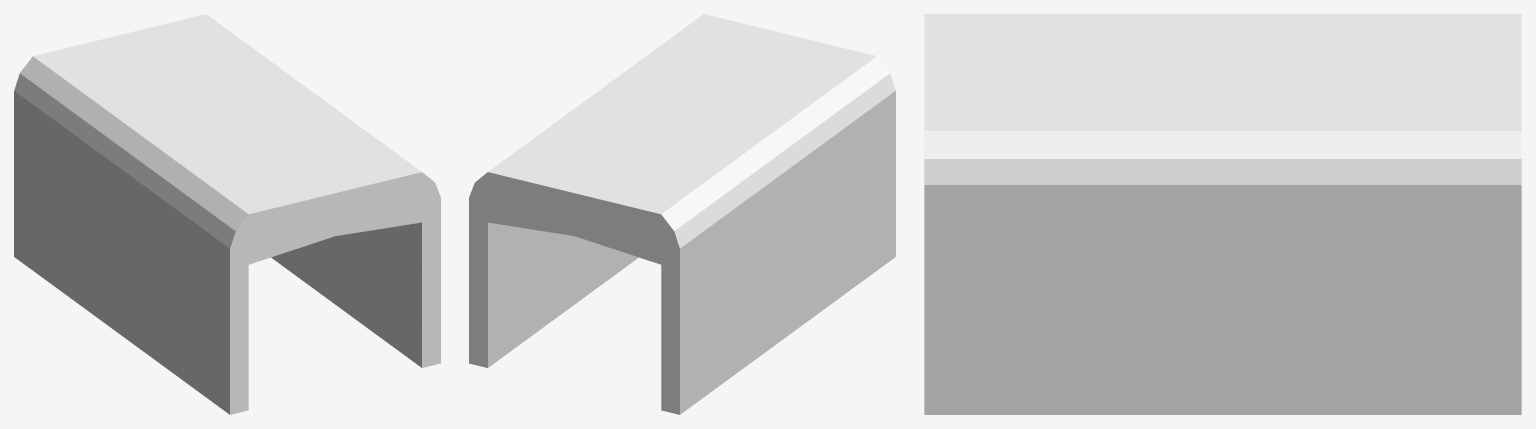
File: house_addon_01.fbx
The picture shows the model from 3 angles, left to right: view 1: azimuth 30°, elevation 25°; view 2: azimuth 150°, elevation 25°; view 3: azimuth 270°, elevation 25°; orthographic projection. The views are drawn at different scales.
Visible parts, largest first — view 1: house_addon_01; view 2: house_addon_01; view 3: house_addon_01.
Boxes of the visible parts, box(x1,y1,x2,y2) form: house_addon_01: box(14, 14, 440, 414); house_addon_01: box(469, 14, 895, 414); house_addon_01: box(924, 14, 1521, 414).
Bounding box in the file's own units: 271 × 241 × 481.
Materials: 1 (1 with a texture image).
